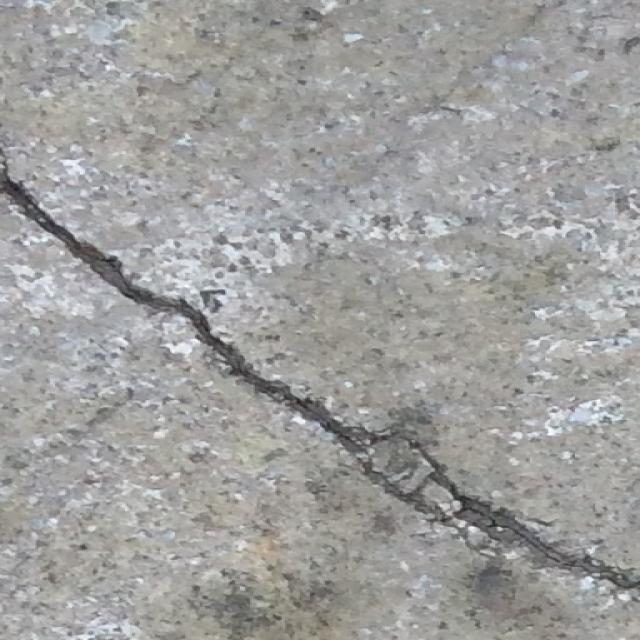crack: (2, 152, 636, 593)
